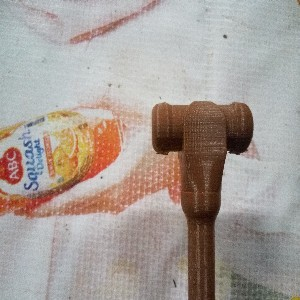palu: (151, 101, 254, 300)
